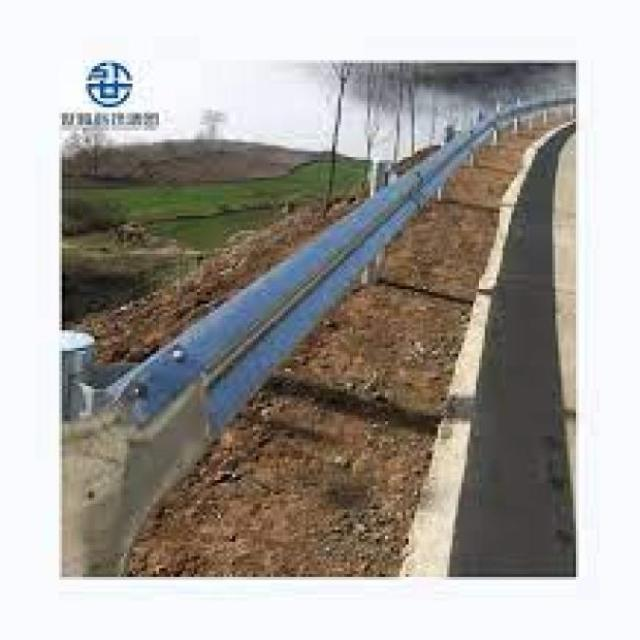Guard rail: (63, 119, 496, 567)
